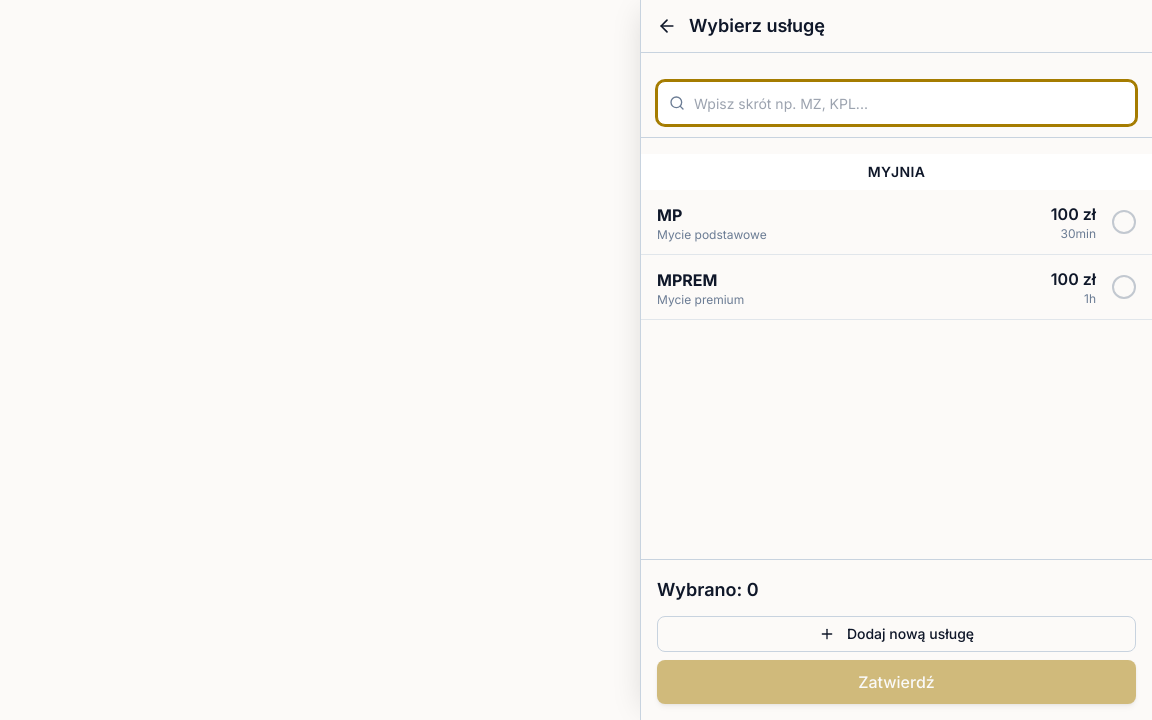
ServiceSelectionDrawer › Search no-match empty state › shows EmptyState with "Nie znaleziono usługi" and "Dodaj usługę" button when search has no matches
This screenshot has width=1152, height=720.
Expected: the text "Myjnia" is shown, [868,163,925,180]
Type "XXXXNOTEXIST" into the search field with placeholder "Wpisz skrót np. MZ, KPL..." at (896, 103), box [657,81,1136,125]
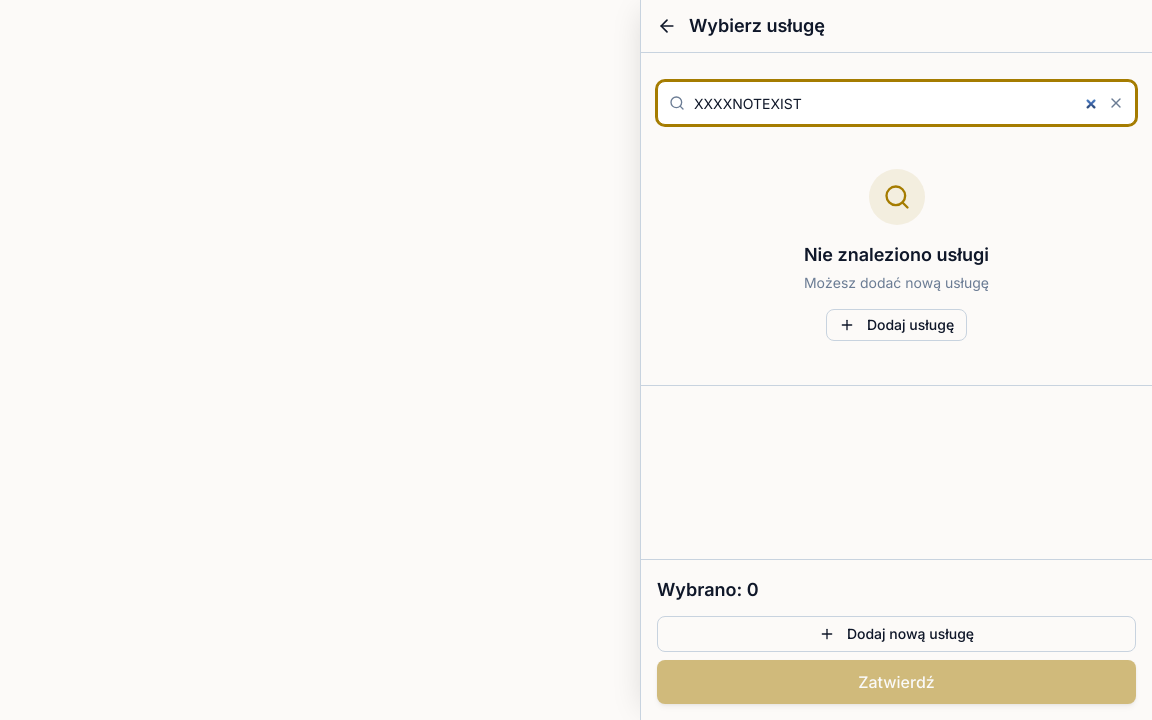
Now the heading "Nie znaleziono usługi" is shown, box [804,241,989,269]
Now the button "Dodaj usługę" is shown, box [826,309,967,341]
